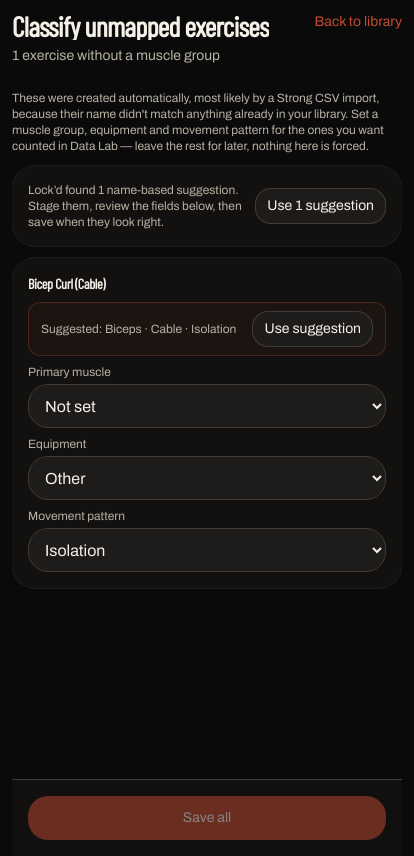
Test case: BulkClassifyPage › previews a taxonomy suggestion without applying it until the user confirms
Expected: the text "Suggested: Biceps · Cable · Isolation" is shown, x1=41 y1=321 x2=236 y2=337
Expected: the button "Save all" is disabled, x1=28 y1=796 x2=386 y2=840
Click the button "Use suggestion".
click(313, 329)  # box x1=252 y1=311 x2=373 y2=347
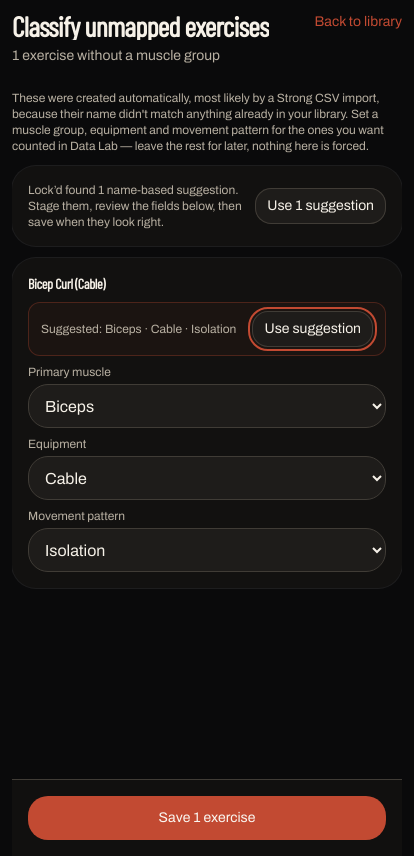
Expected: the dropdown labelled "Primary muscle" shows "Biceps", x1=28 y1=384 x2=386 y2=428
Expected: the dropdown labelled "Equipment" shows "Cable", x1=28 y1=456 x2=386 y2=500
Expected: the button "Save 1 exercise" is enabled, x1=28 y1=796 x2=386 y2=840
